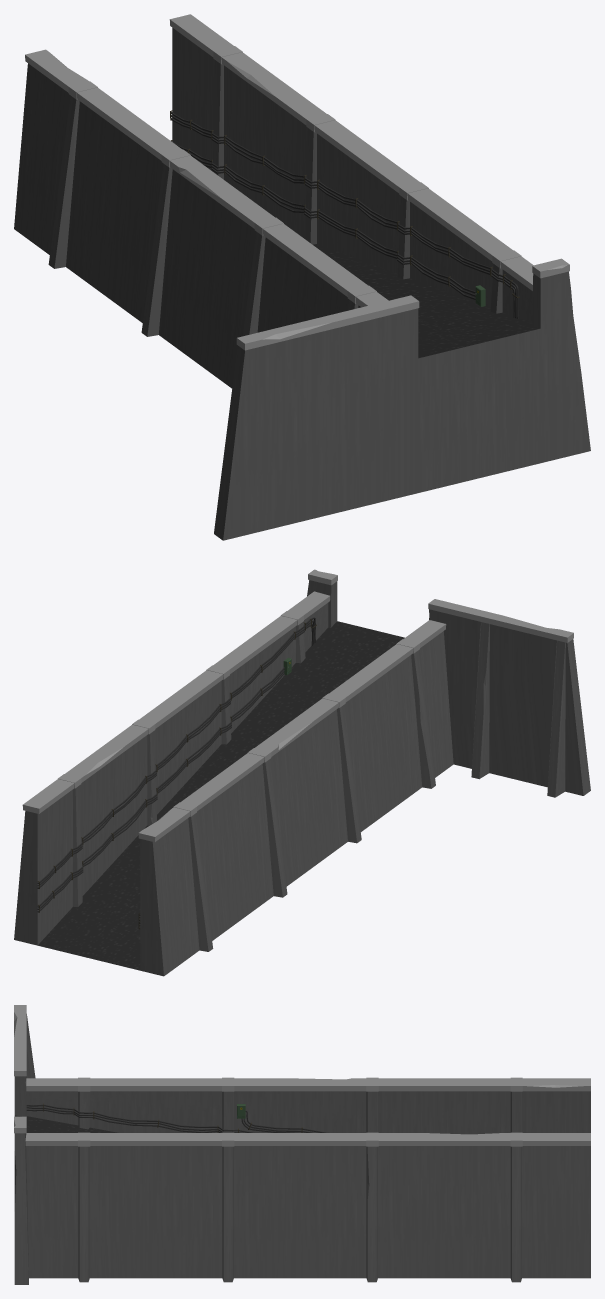
The model's file is SW_ENV_OpenTunnel_TrackRise_Single_End_Left_FF.fbx.
The picture shows the model from 3 angles, top to bottom: view 1: azimuth 30°, elevation 25°; view 2: azimuth 150°, elevation 25°; view 3: azimuth 270°, elevation 25°; orthographic projection. The views are drawn at different scales.
Visible parts, largest first — view 1: SW_ENV_OpenTunnel_TrackRise_Single_End_Left_FF; view 2: SW_ENV_OpenTunnel_TrackRise_Single_End_Left_FF; view 3: SW_ENV_OpenTunnel_TrackRise_Single_End_Left_FF.
Boxes of the visible parts, x1,y1,x2,y2 form: SW_ENV_OpenTunnel_TrackRise_Single_End_Left_FF: (14,14,590,540); SW_ENV_OpenTunnel_TrackRise_Single_End_Left_FF: (14,569,590,976); SW_ENV_OpenTunnel_TrackRise_Single_End_Left_FF: (14,1005,590,1284).
Bounding box in the file's own units: 1143 × 570 × 2002.
